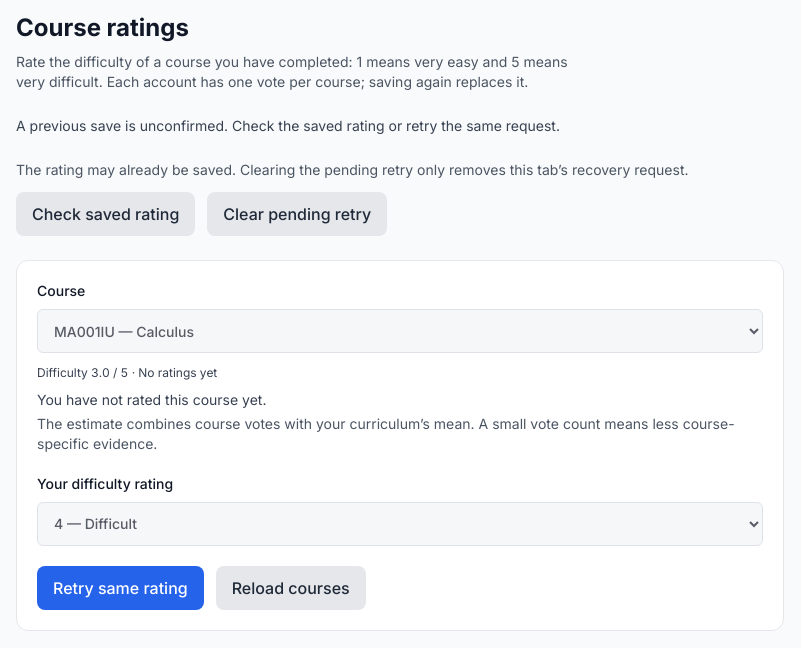
Scenario: durable rating retry scope and account isolation › unlocks after read-only confirmation resolves a valid pending retry whose storage rewrite failed
Step 1. Click the button "Retry same rating" → (120, 588), box [37,566,204,610]
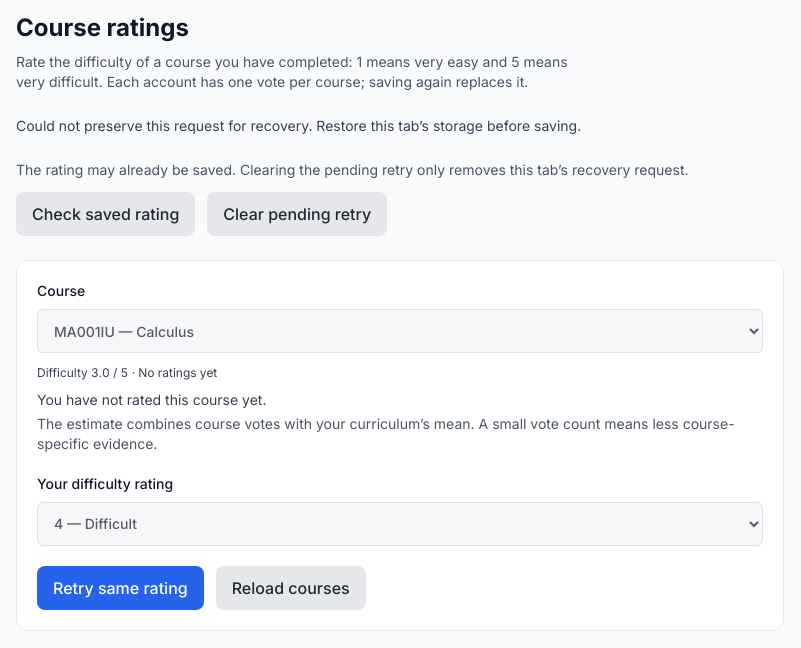
Expected: the message is shown, [16,117,581,134]
Step 2. Click the button "Check saved rating" → (106, 214), box [16,192,195,236]
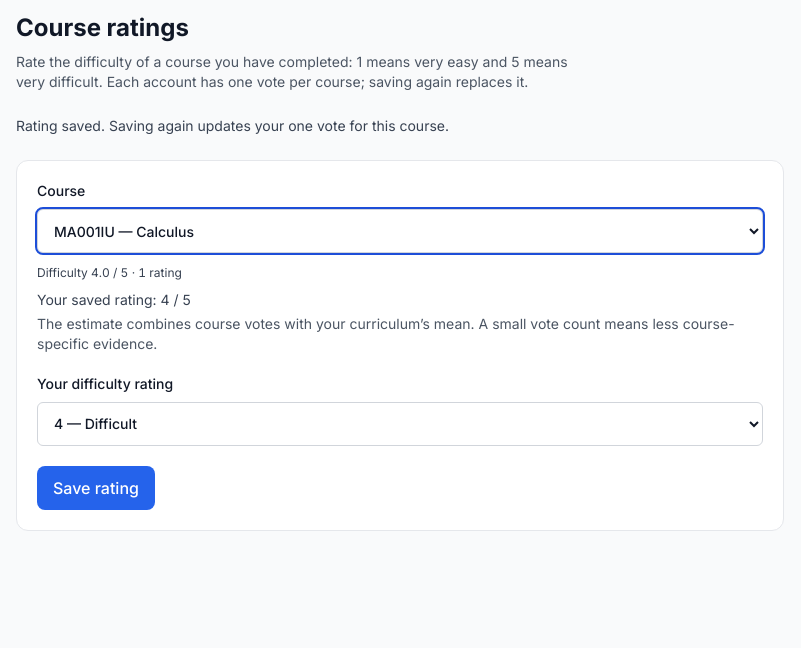
Now the dropdown labelled "Course" is enabled, box [37,209,763,253]
Now the dropdown labelled "Your difficulty rating" is enabled, box [37,402,763,446]
Now the button "Clear pending retry" is gone
